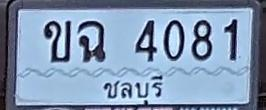0: (163, 18, 184, 61)
1: (224, 18, 237, 60)
4: (134, 19, 156, 61)
8: (191, 18, 212, 61)
A02: (43, 19, 71, 62)
A09: (78, 19, 106, 62)
CBI: (100, 72, 167, 107)
